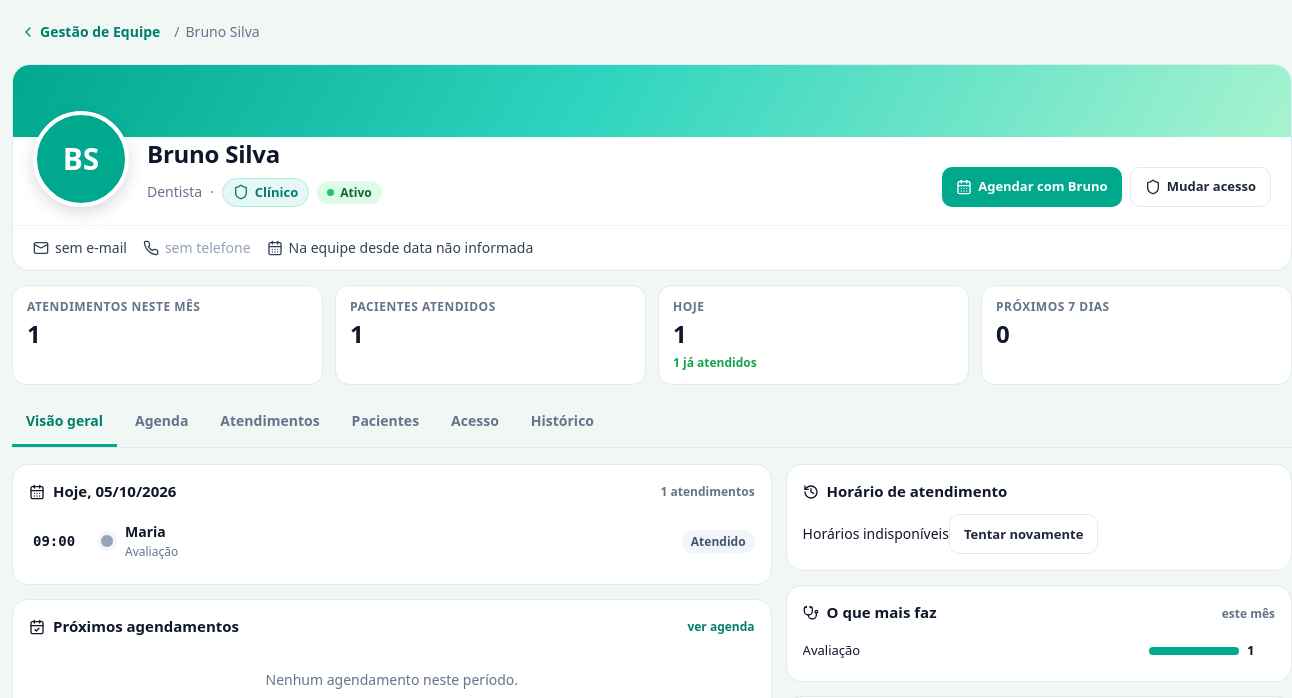
falha de horários exibe erro e retry em vez de sugerir folgas
The width and height of the screenshot is (1292, 698).
Expected: the message shows "Horários indisponíveis", [803, 524, 949, 543]
Step 1. Click the button "Tentar novamente" → (1024, 534), box [949, 514, 1098, 554]
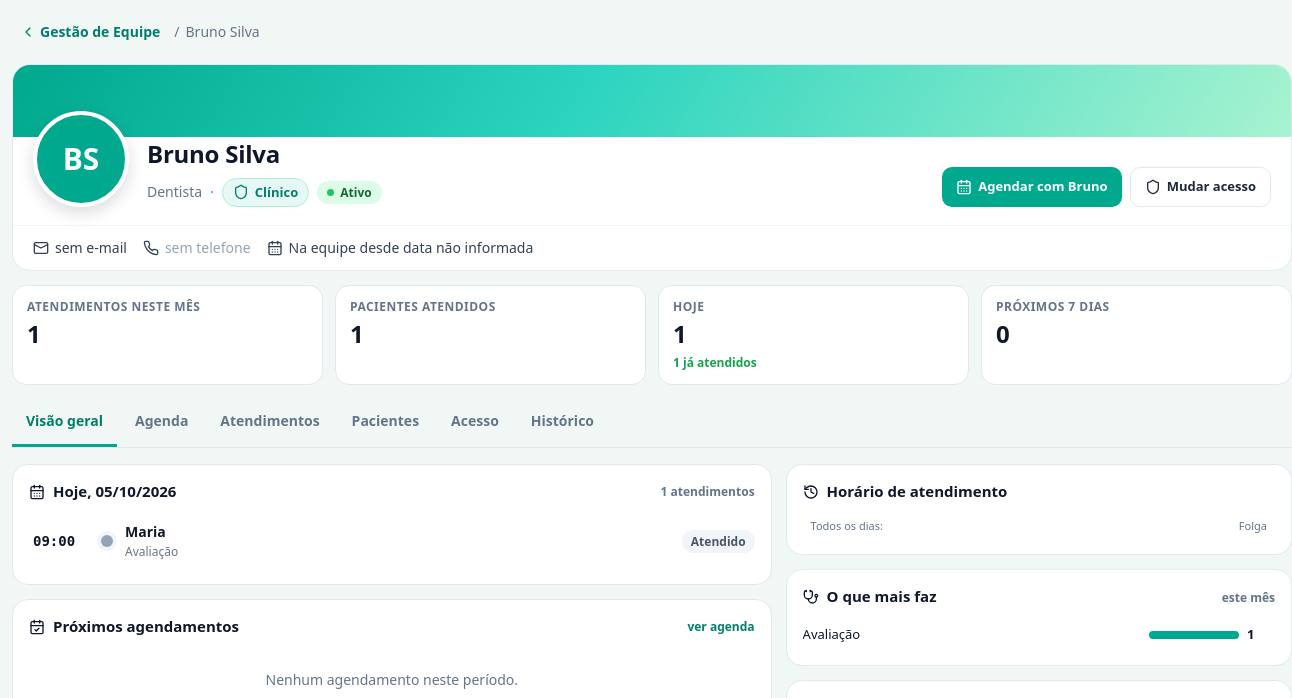
Expected: the element with class "week-groups" is shown, [803, 514, 1275, 538]
